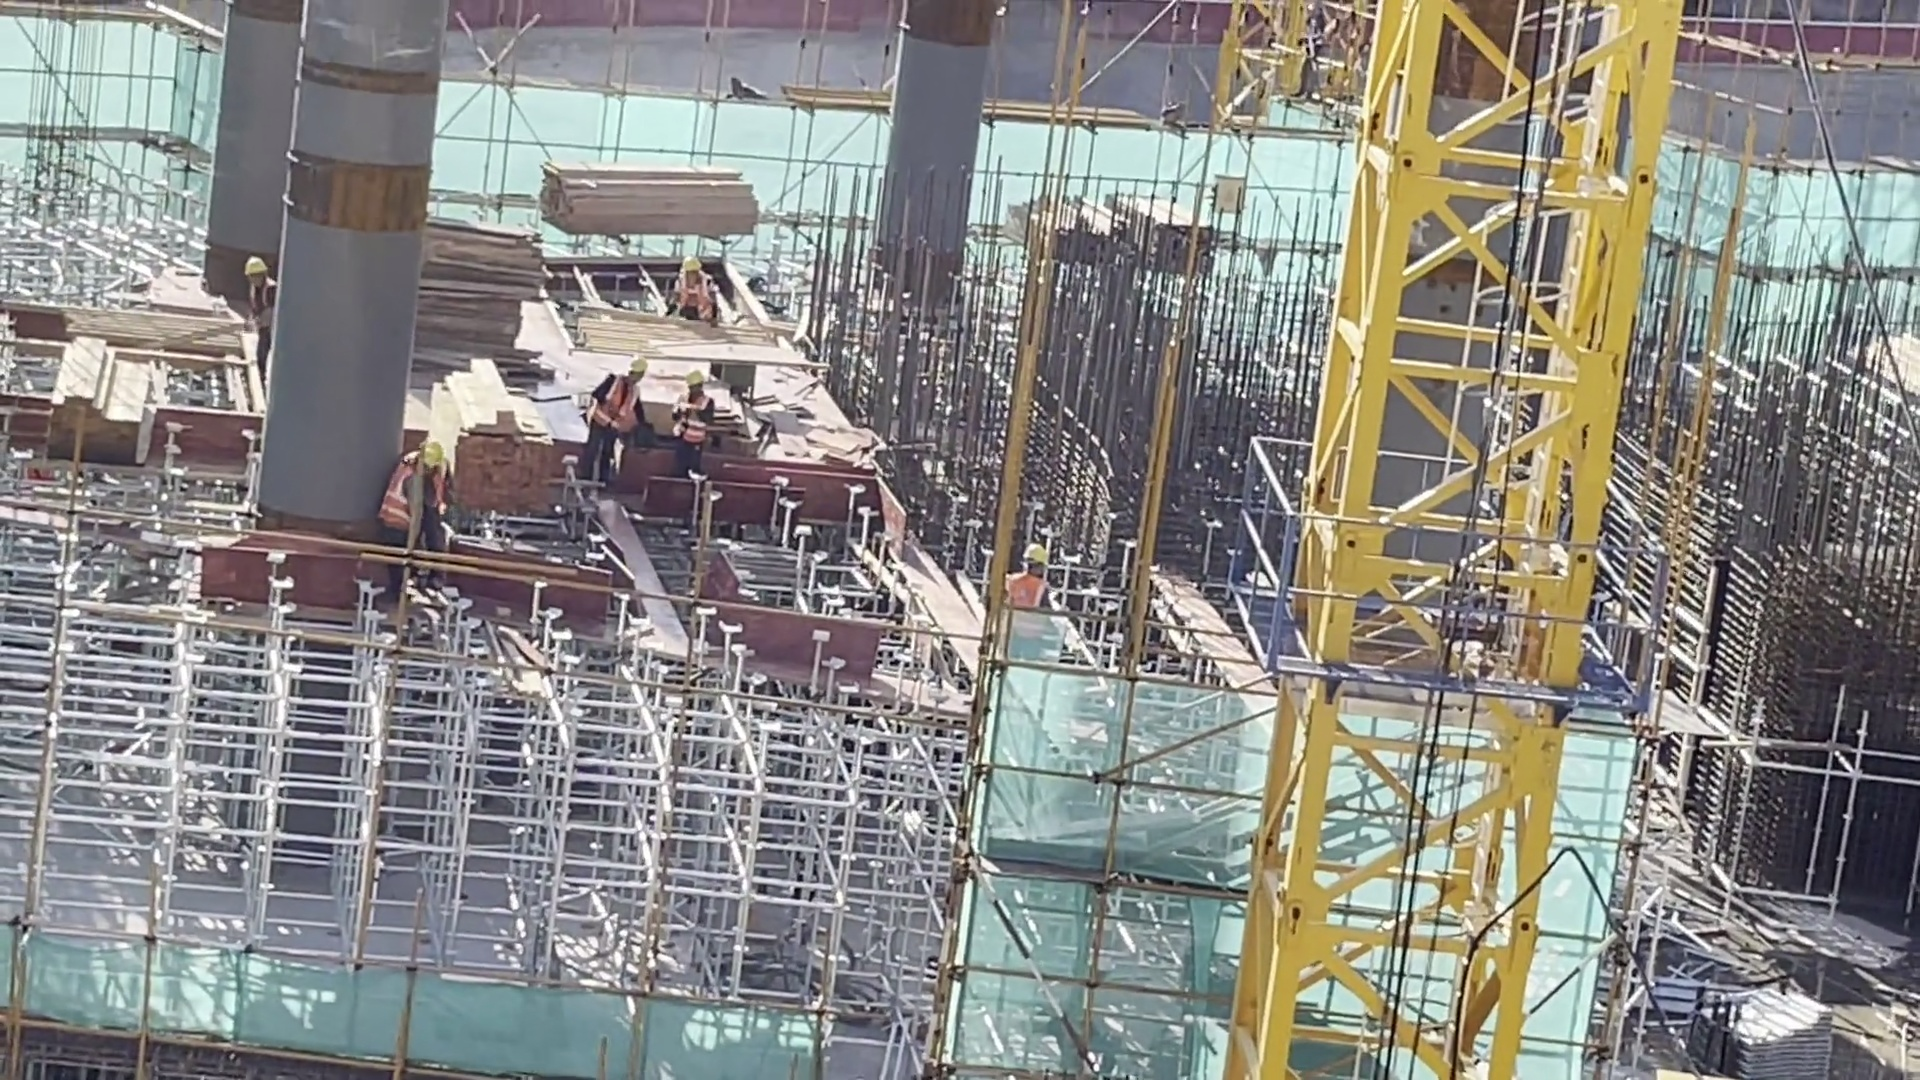helmet: (243, 253, 272, 283), (680, 251, 703, 279), (420, 443, 443, 468), (1023, 542, 1046, 569), (624, 352, 651, 371), (685, 371, 709, 387)
person: (574, 346, 649, 487), (386, 438, 441, 555), (673, 359, 715, 477), (665, 254, 720, 331), (1003, 542, 1054, 618), (241, 249, 269, 382)
vest: (387, 451, 420, 533), (591, 378, 637, 437), (674, 399, 712, 459), (1004, 575, 1044, 614)
